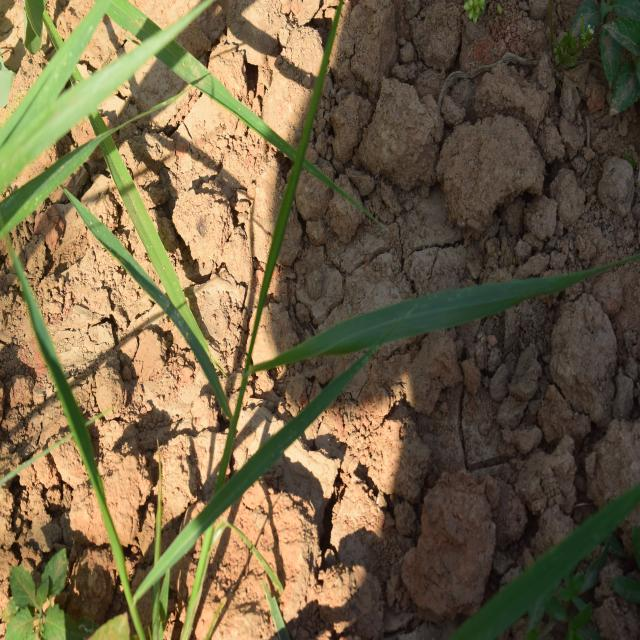green_foxtail: (65, 34, 510, 490)
